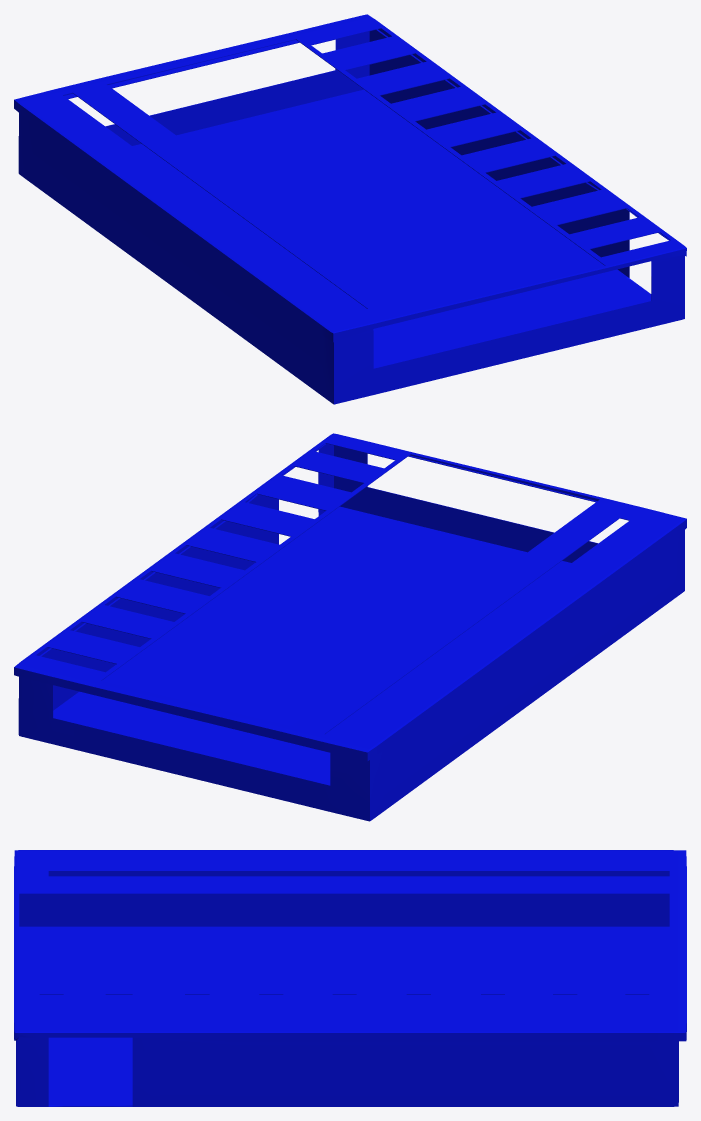
File: Caja_exterior_2.FBX
3 views of the same model, one above another, from view 1: azimuth 30°, elevation 25°; view 2: azimuth 150°, elevation 25°; view 3: azimuth 270°, elevation 25° (orthographic). The views are drawn at different scales.
Visible parts, largest first — view 1: Caja_exterior_2; view 2: Caja_exterior_2; view 3: Caja_exterior_2.
Part boxes in pixels (x1=…): Caja_exterior_2: x1=14, y1=14, x2=686, y2=404; Caja_exterior_2: x1=14, y1=433, x2=686, y2=821; Caja_exterior_2: x1=14, y1=850, x2=686, y2=1106.
Size of the model in its own units: 4155 by 810 by 6494.
